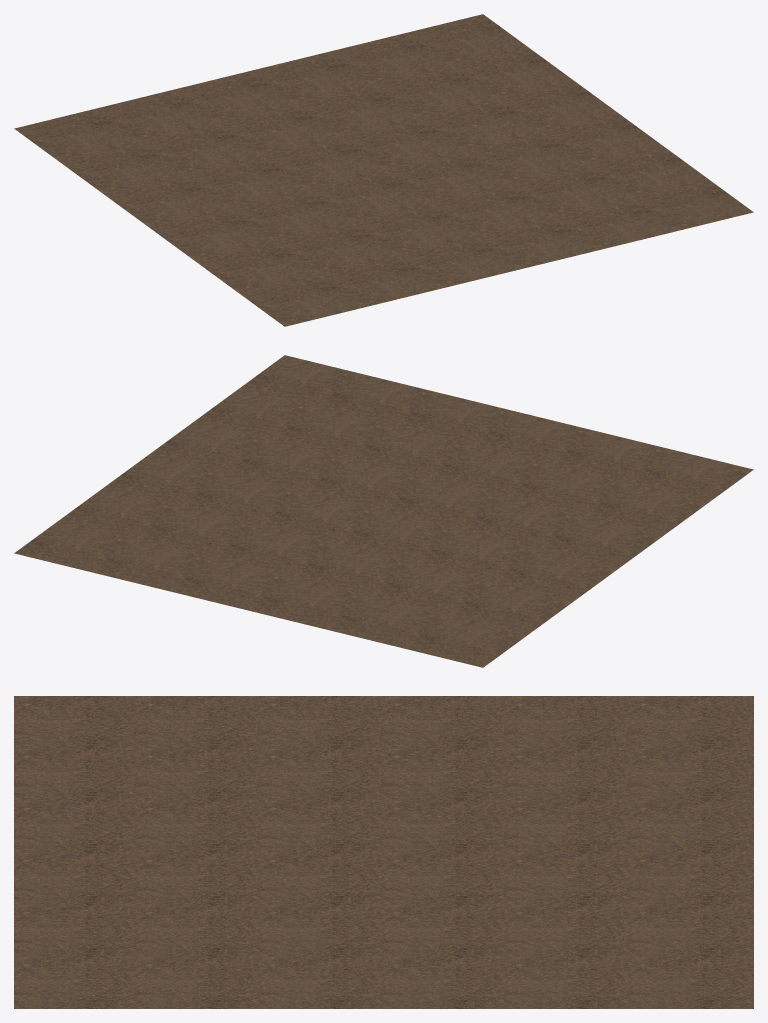
Rendered from forest_ground.glb.
3 renders of one model, top to bottom at view 1: azimuth 30°, elevation 25°; view 2: azimuth 150°, elevation 25°; view 3: azimuth 270°, elevation 25°, orthographic. The views are drawn at different scales.
Parts seen in each view (by area): view 1: forest_ground; view 2: forest_ground; view 3: forest_ground.
Boxes of the visible parts, x1=… form: forest_ground: x1=14, y1=14, x2=753, y2=326; forest_ground: x1=14, y1=355, x2=753, y2=667; forest_ground: x1=14, y1=696, x2=753, y2=1008.
Bounding box in the file's own units: 24 × 0 × 24.
1 material, 1 textured.
